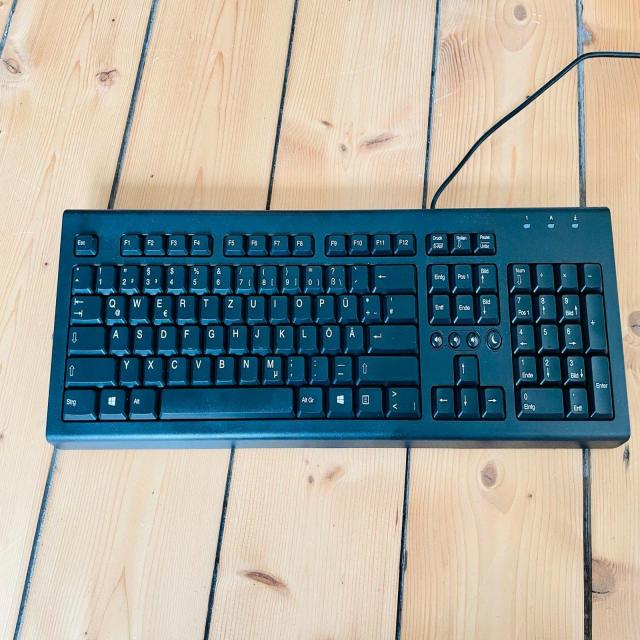0: (302, 262, 321, 289)
1: (95, 263, 114, 289)
2: (118, 263, 137, 289)
3: (140, 262, 160, 289)
4: (164, 263, 183, 289)
5: (188, 263, 207, 289)
6: (211, 262, 230, 289)
7: (235, 262, 253, 289)
8: (257, 263, 276, 290)
9: (280, 262, 299, 289)
a: (108, 324, 127, 350)
accent: (349, 262, 367, 289)
ae: (344, 322, 362, 349)
alt-left: (128, 386, 154, 415)
altgr-right: (296, 384, 322, 412)
b: (214, 353, 233, 380)
c: (166, 354, 185, 380)
caret: (70, 263, 90, 289)
comma: (285, 353, 304, 381)
d: (156, 324, 175, 350)
del: (372, 262, 413, 288)
e: (152, 292, 170, 319)
enter: (367, 322, 416, 348)
f: (180, 323, 198, 349)
g: (204, 323, 222, 349)
h: (228, 322, 245, 348)
hash: (384, 292, 415, 318)
i: (268, 293, 286, 318)
j: (250, 323, 268, 349)
k: (274, 323, 293, 349)
keyboard: (42, 204, 630, 443)
l: (297, 323, 315, 349)
less: (385, 385, 419, 415)
m: (262, 353, 281, 380)
minus: (332, 353, 351, 380)
n: (238, 353, 256, 380)
o: (291, 292, 310, 319)
oe: (320, 323, 339, 349)
p: (314, 293, 333, 319)
plus: (360, 292, 379, 319)
point: (309, 353, 328, 380)
q: (104, 293, 124, 320)
r: (175, 292, 194, 318)
s: (132, 324, 151, 349)
shift-left: (64, 354, 114, 381)
shift-lock: (66, 324, 103, 349)
shift-right: (357, 353, 417, 379)
space: (159, 384, 293, 414)
ss: (325, 263, 344, 290)
strg-left: (60, 386, 94, 417)
t: (199, 293, 217, 318)
tab: (69, 293, 99, 318)
u: (245, 293, 263, 319)
ue: (337, 292, 356, 319)
v: (191, 354, 210, 380)
w: (128, 292, 146, 319)
x: (143, 354, 162, 380)
y: (119, 355, 138, 380)
z: (223, 293, 241, 318)
